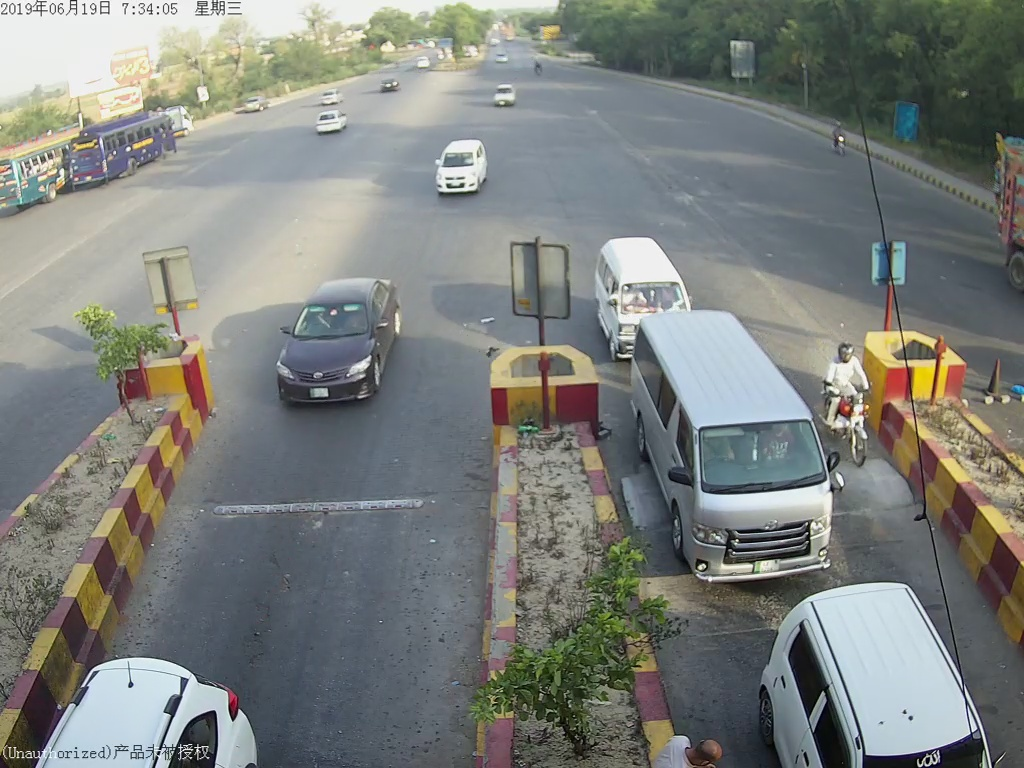Cat-1: (276, 276, 412, 400), (429, 135, 500, 193)
Cat-2: (632, 312, 844, 581)
